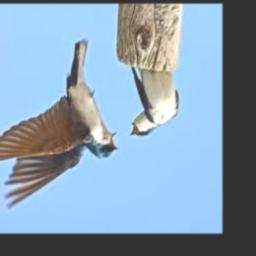Swallow: (0, 38, 119, 208), (131, 66, 180, 137)
